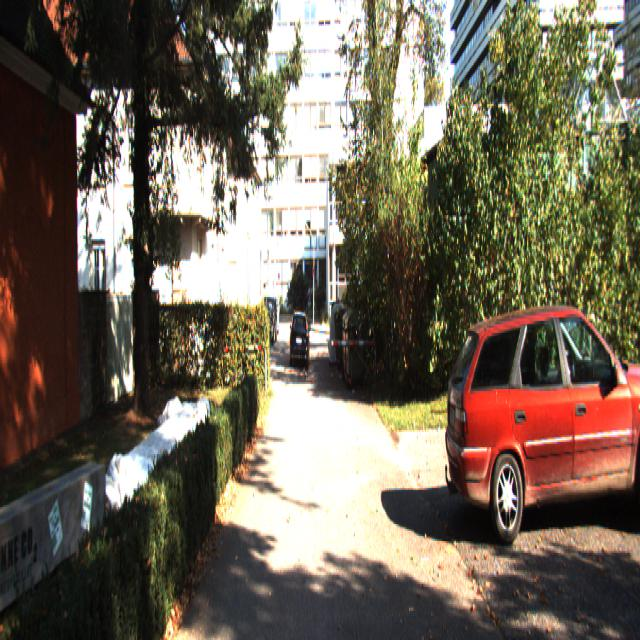Car: (444, 297, 640, 553), (290, 310, 310, 368), (254, 303, 274, 349), (638, 279, 640, 612)
